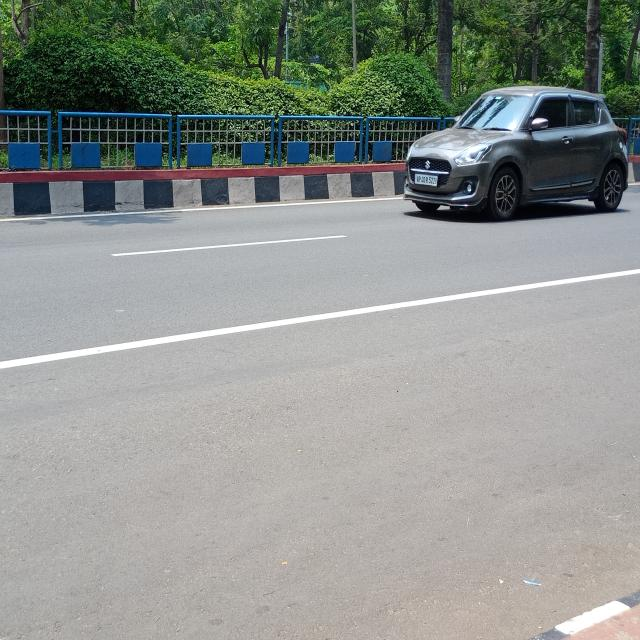car: (398, 75, 633, 230)
